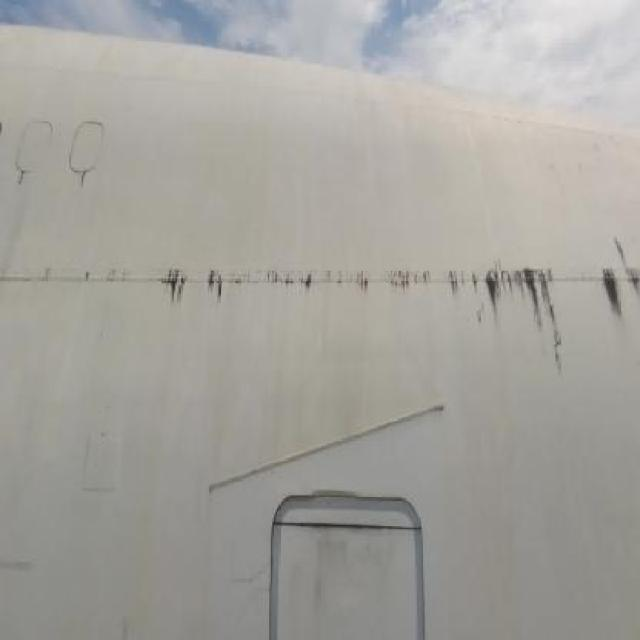Rust: (149, 235, 640, 368), (78, 172, 91, 196), (17, 169, 28, 186)
Scartch: (309, 528, 414, 617), (1, 545, 39, 583)
